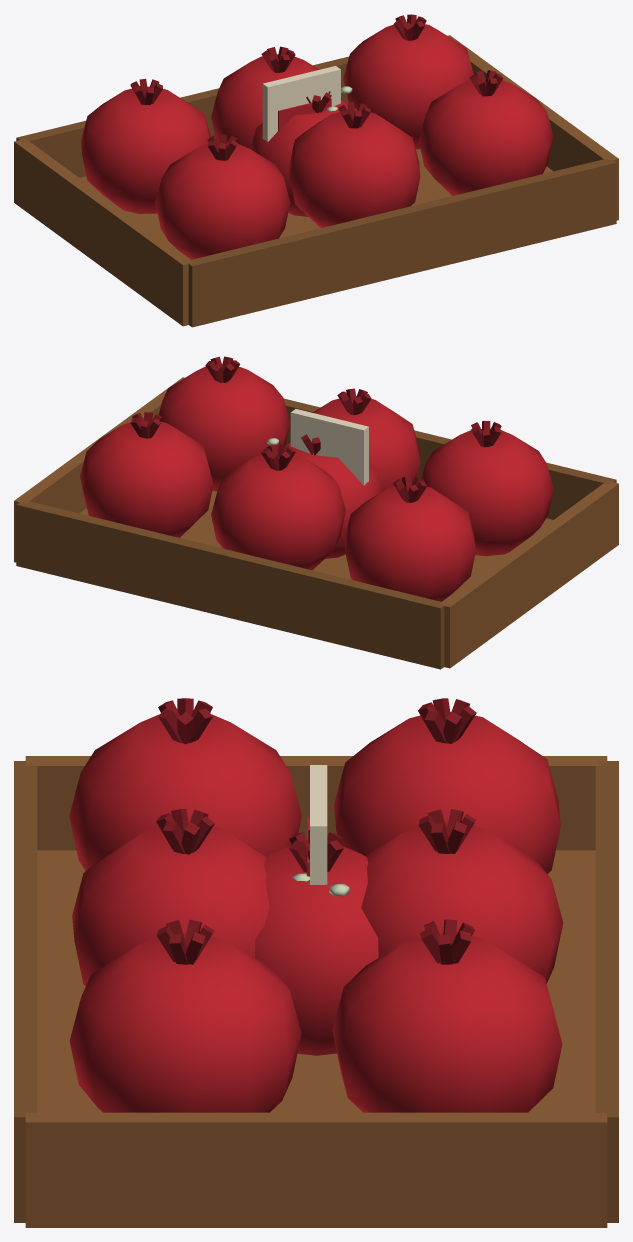
File: Fruit_Pomegranate.fbx
3 renders of one model, top to bottom at view 1: azimuth 30°, elevation 25°; view 2: azimuth 150°, elevation 25°; view 3: azimuth 270°, elevation 25°, orthographic. The views are drawn at different scales.
Parts seen in each view (by area): view 1: Fruit_Pomegranate__Stack, Fruit_Pomegranate__Seed, Fruit_Pomegranate; view 2: Fruit_Pomegranate__Stack, Fruit_Pomegranate__Seed, Fruit_Pomegranate; view 3: Fruit_Pomegranate__Stack, Fruit_Pomegranate, Fruit_Pomegranate__Seed.
Part boxes in pixels (left/top/right/bottom): Fruit_Pomegranate__Stack: left=14, top=14, right=618, bottom=327; Fruit_Pomegranate__Seed: left=262, top=66, right=340, bottom=141; Fruit_Pomegranate: left=250, top=91, right=357, bottom=216; Fruit_Pomegranate__Stack: left=14, top=356, right=618, bottom=669; Fruit_Pomegranate__Seed: left=290, top=409, right=368, bottom=485; Fruit_Pomegranate: left=277, top=434, right=382, bottom=558; Fruit_Pomegranate__Stack: left=14, top=698, right=618, bottom=1227; Fruit_Pomegranate: left=254, top=830, right=378, bottom=1055; Fruit_Pomegranate__Seed: left=307, top=765, right=327, bottom=884.
Bounding box in the file's own units: 0.298 × 0.09 × 0.208.
